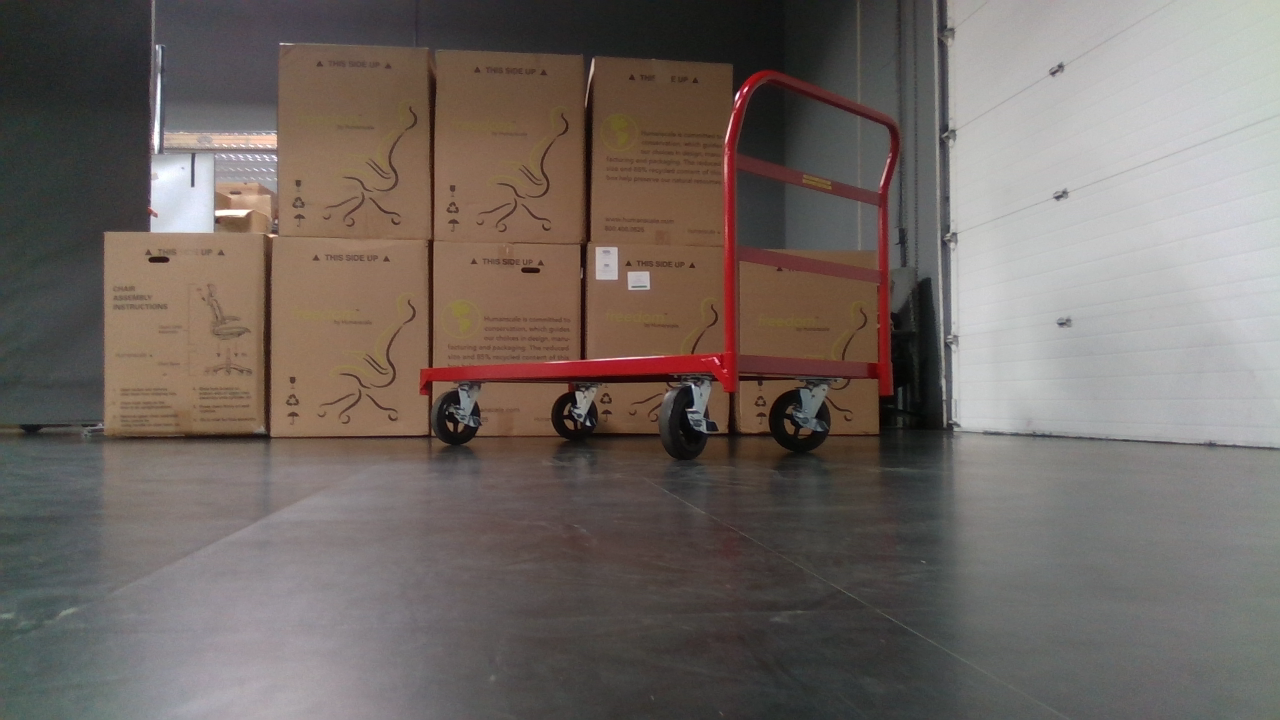Dolly: (417, 71, 902, 465)
Wheel: (658, 383, 719, 461), (766, 387, 832, 455), (430, 388, 486, 449), (550, 385, 601, 444)
